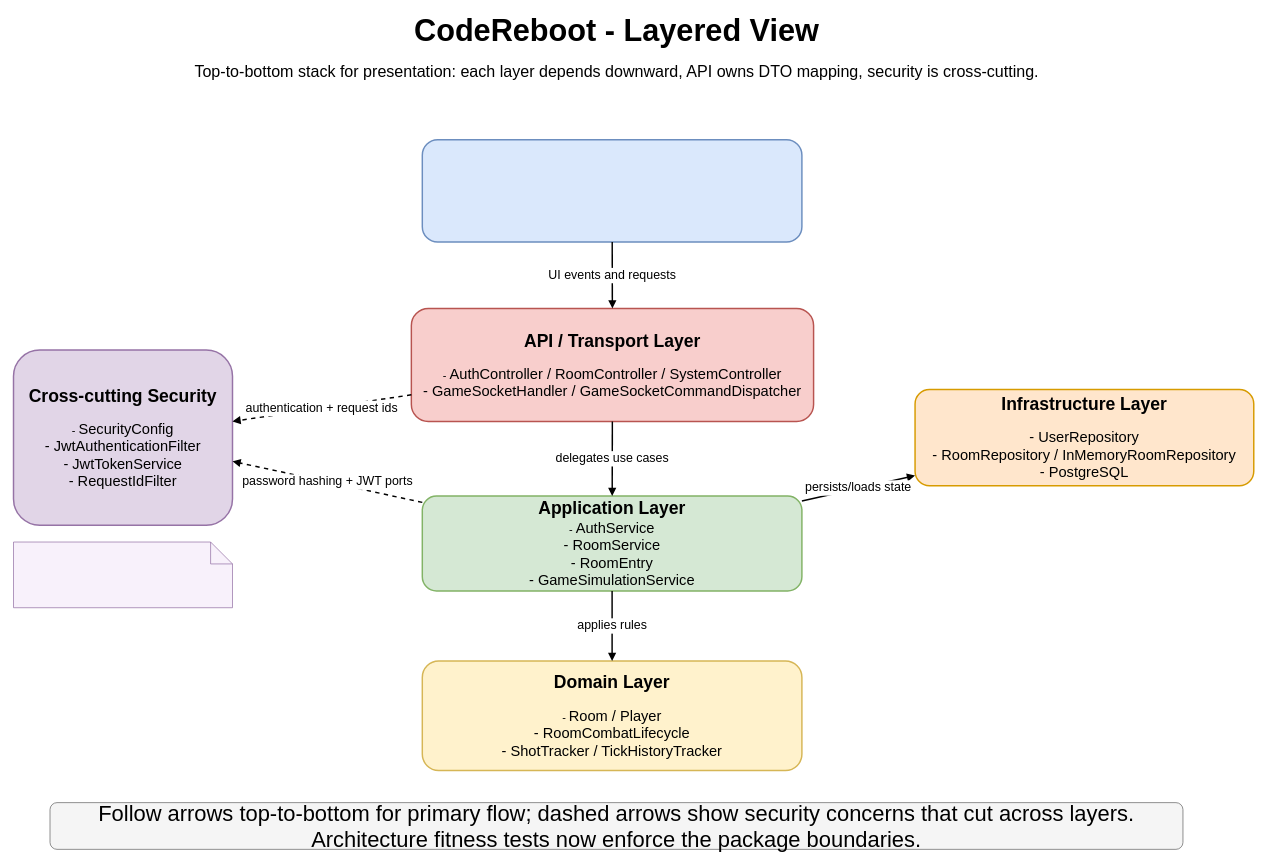
The diagram is 1267 pixels wide and 864 high, and some of its shapes have lost their labels. The centre of each missing label's shape, as x and y in pixels:
"Presentation Layer - index/login/room/game pages - app.css - client JS modules" goes at [611,190].
"Security applies to both HTTP and WebSocket entry points." goes at [123,574].
